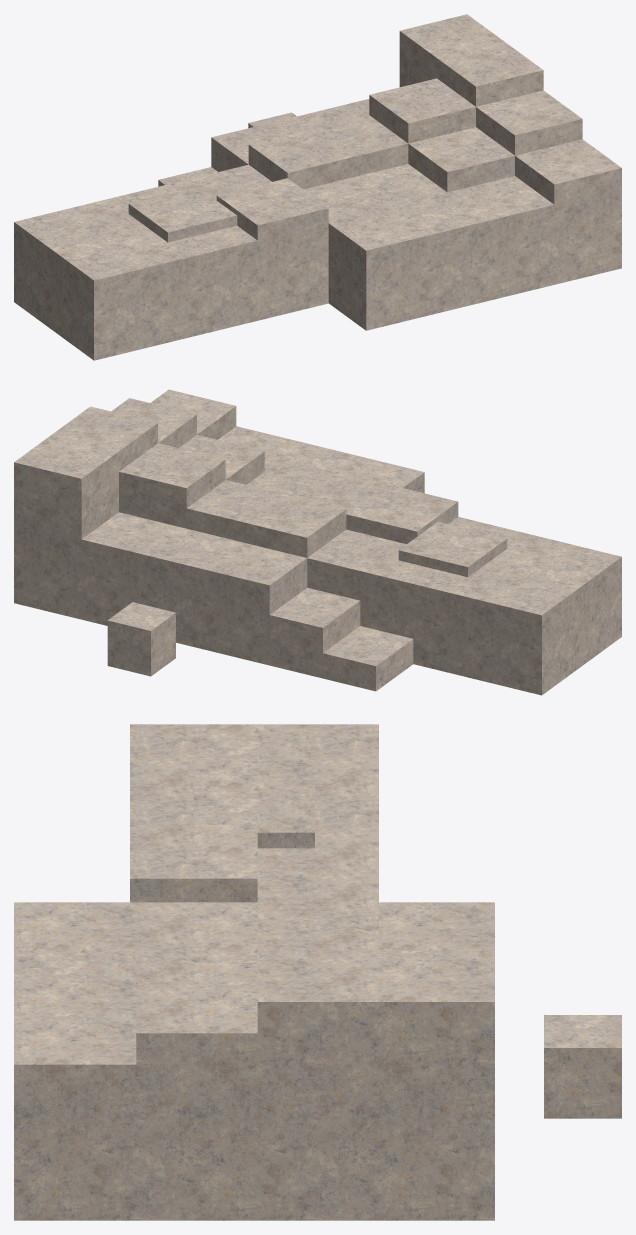
File: table_metal_4-opt-v3.glb
The picture shows the model from 3 angles, top to bottom: view 1: azimuth 30°, elevation 25°; view 2: azimuth 150°, elevation 25°; view 3: azimuth 270°, elevation 25°; orthographic projection. The views are drawn at different scales.
Visible parts, largest first — view 1: Mesh_15.009; view 2: Mesh_15.009; view 3: Mesh_15.009.
Boxes of the visible parts, left/top/right/bottom form: Mesh_15.009: left=14, top=14, right=621, bottom=360; Mesh_15.009: left=14, top=389, right=621, bottom=695; Mesh_15.009: left=14, top=724, right=621, bottom=1220.
Bounding box in the file's own units: 5.08 × 1.39 × 3.51.
1 material, 1 textured.
